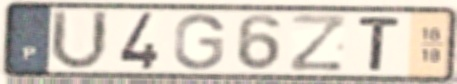4: (116, 10, 161, 73)
6: (234, 12, 284, 73)
G: (171, 11, 228, 72)
T: (355, 14, 403, 73)
U: (47, 7, 111, 73)
Z: (287, 12, 349, 74)
